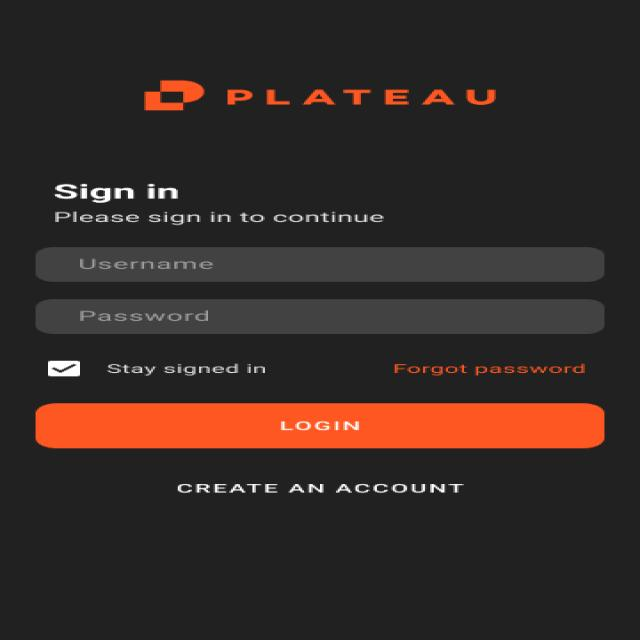QLabel: (51, 208, 387, 226), (175, 479, 466, 499), (389, 361, 589, 380), (105, 358, 271, 378), (52, 182, 180, 204), (275, 418, 364, 434)
VBtn: (36, 402, 605, 448)
VCheckbox: (46, 360, 82, 377)
VImg: (133, 75, 508, 118)
VTextField: (34, 246, 606, 283), (33, 299, 606, 334)
